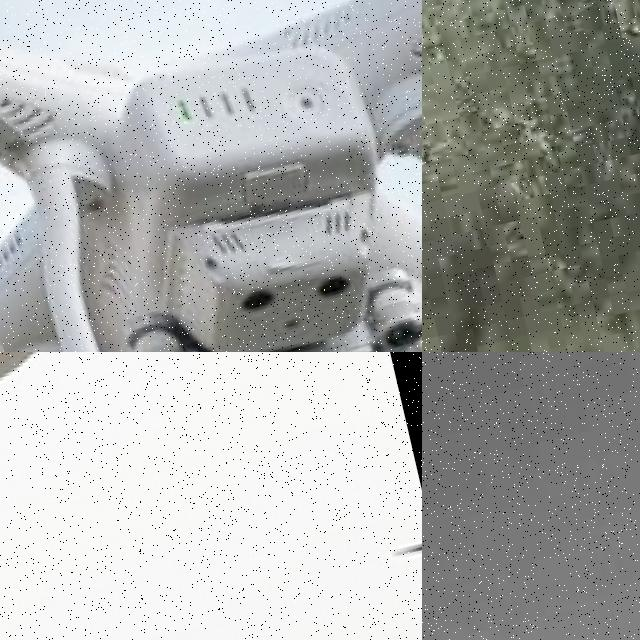drone: (0, 0, 422, 352)
